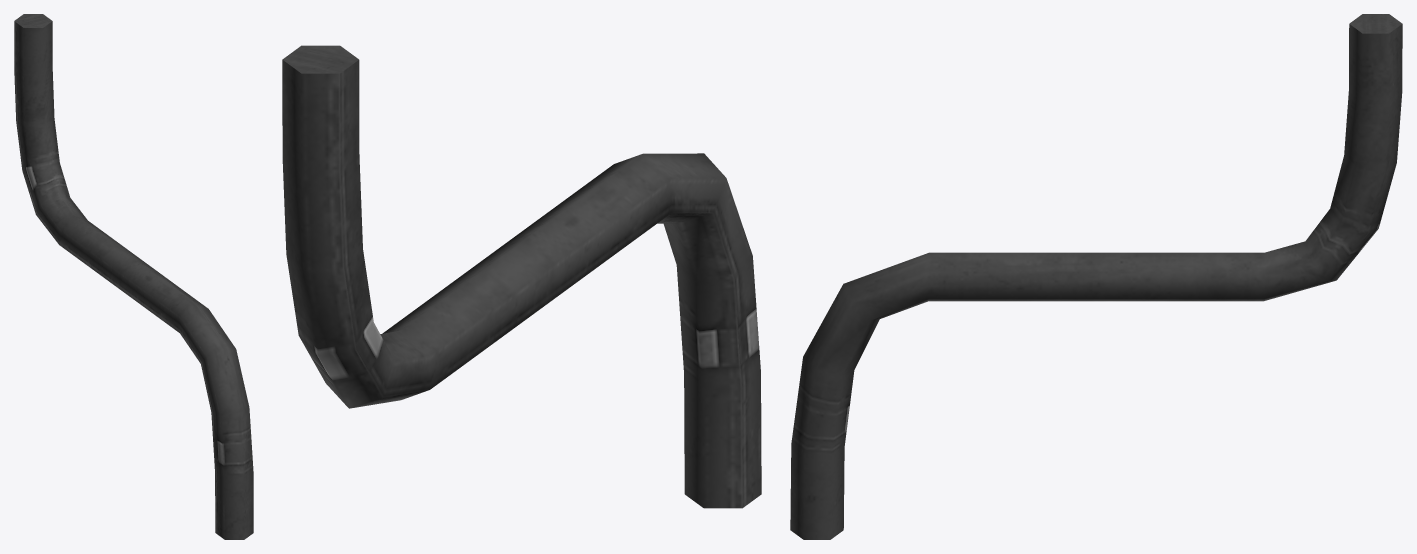
The model's file is CP_Pipe_E_Knee_01.fbx.
The picture shows the model from 3 angles, left to right: view 1: azimuth 30°, elevation 25°; view 2: azimuth 150°, elevation 25°; view 3: azimuth 270°, elevation 25°; orthographic projection. The views are drawn at different scales.
Visible parts, largest first — view 1: CP_Pipe_E_Knee_01; view 2: CP_Pipe_E_Knee_01; view 3: CP_Pipe_E_Knee_01.
Boxes of the visible parts, box(x1,y1,x2,y2) form: CP_Pipe_E_Knee_01: box(14, 14, 253, 539); CP_Pipe_E_Knee_01: box(282, 45, 761, 508); CP_Pipe_E_Knee_01: box(790, 14, 1402, 539).
Bounding box in the file's own units: 8.28 × 100 × 110.
